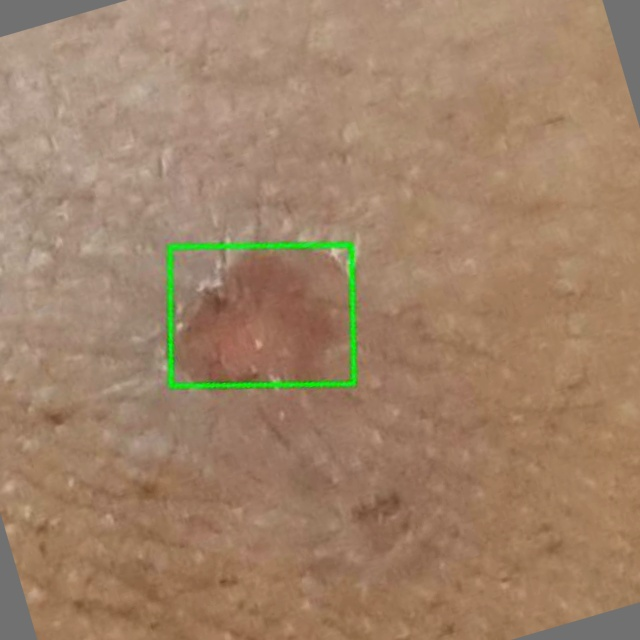Atopic Dermatitis: (169, 246, 353, 386)
